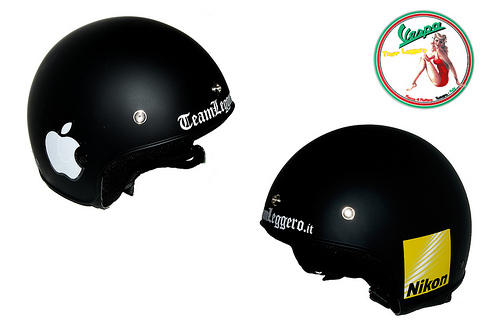helmet: (10, 15, 245, 213), (265, 122, 474, 316)
